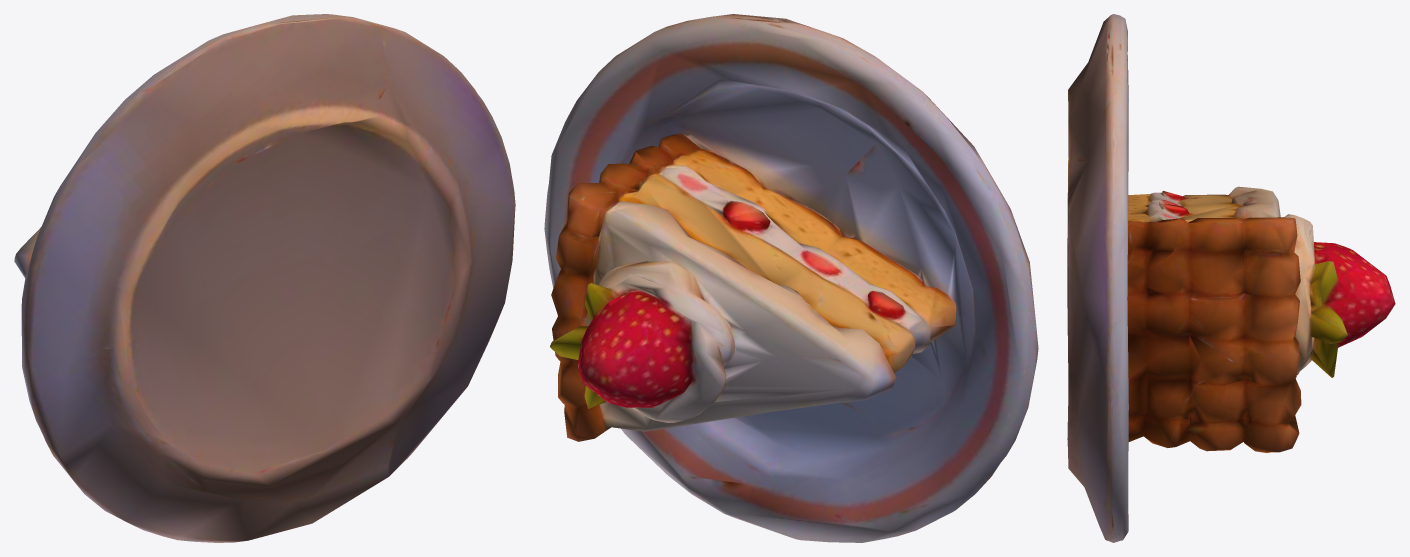
3 renders of one model, left to right at view 1: azimuth 30°, elevation 25°; view 2: azimuth 150°, elevation 25°; view 3: azimuth 270°, elevation 25°, orthographic. The views are drawn at different scales.
Visible parts, largest first — view 1: material; view 2: material; view 3: material.
Part boxes in pixels (bbox=[...]): material: bbox=[14, 14, 515, 542]; material: bbox=[544, 14, 1038, 542]; material: bbox=[1067, 14, 1395, 542].
Size of the model in its own units: 1 by 1 by 0.6207.
Materials: 1 (1 with a texture image).
